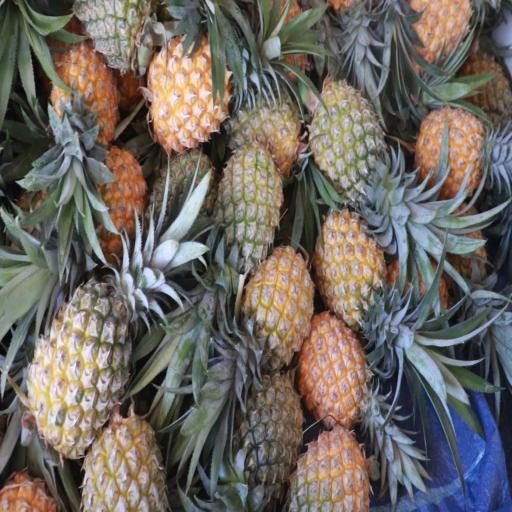------------------------------: (30, 280, 129, 450), (81, 411, 164, 512), (233, 86, 304, 186)
Pineapple - v8 v1: (150, 40, 232, 146), (415, 107, 504, 202), (316, 209, 389, 324), (300, 314, 370, 426), (247, 250, 312, 359), (51, 46, 116, 150), (409, 0, 483, 76), (90, 149, 146, 247)
